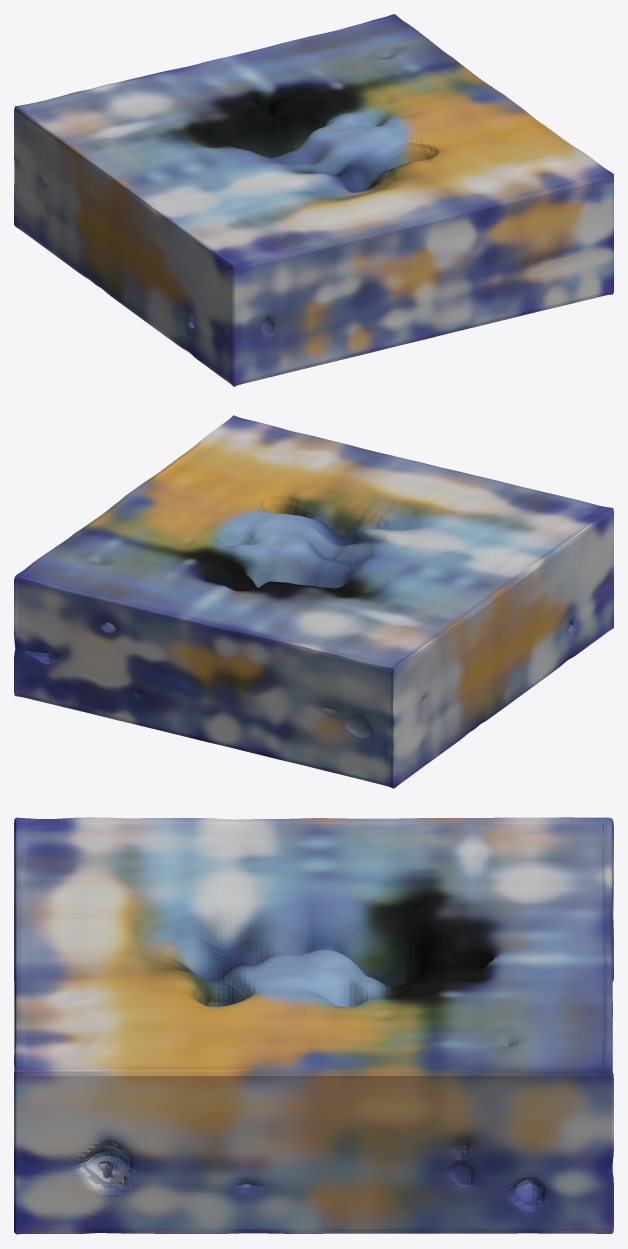
The picture shows the model from 3 angles, top to bottom: view 1: azimuth 30°, elevation 25°; view 2: azimuth 150°, elevation 25°; view 3: azimuth 270°, elevation 25°; orthographic projection. The views are drawn at different scales.
Visible parts, largest first — view 1: tmp7i4u7nri.ply; view 2: tmp7i4u7nri.ply; view 3: tmp7i4u7nri.ply.
Boxes of the visible parts, left/top/right/bottom form: tmp7i4u7nri.ply: left=14, top=14, right=613, bottom=386; tmp7i4u7nri.ply: left=14, top=415, right=613, bottom=788; tmp7i4u7nri.ply: left=14, top=817, right=613, bottom=1234.
Size of the model in its own units: 1.98 by 0.6089 by 1.98.
